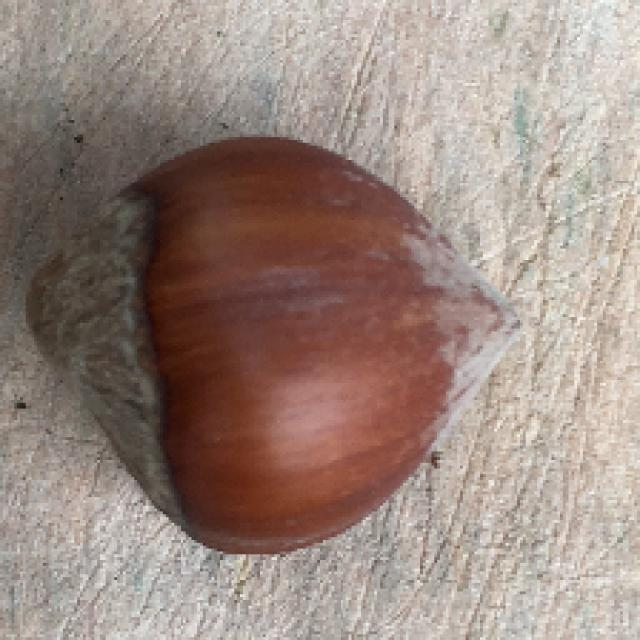QualityHazelnut: (26, 135, 527, 557)
